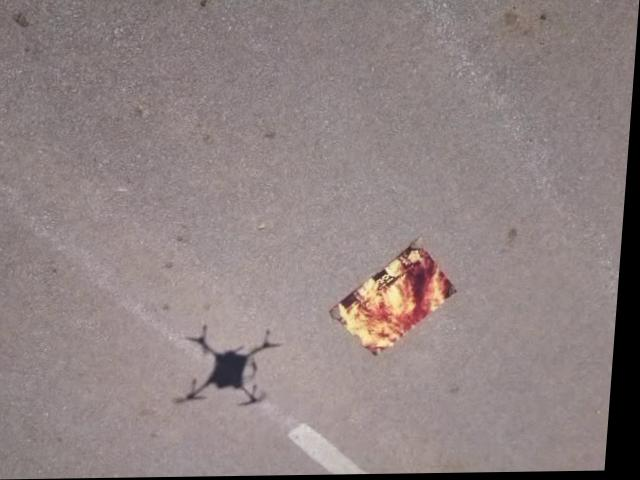fire-poster: (330, 237, 466, 361)
